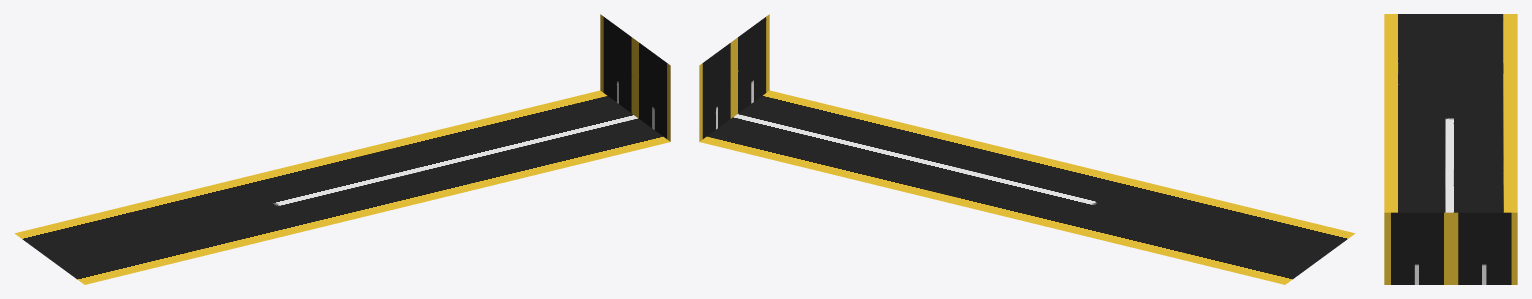
Rendered from Road.fbx.
The picture shows the model from 3 angles, left to right: view 1: azimuth 30°, elevation 25°; view 2: azimuth 150°, elevation 25°; view 3: azimuth 270°, elevation 25°; orthographic projection. The views are drawn at different scales.
Parts seen in each view (by area): view 1: Plane.009; view 2: Plane.009; view 3: Plane.009.
Part boxes in pixels (x1=…): Plane.009: x1=14, y1=14, x2=670, y2=284; Plane.009: x1=699, y1=14, x2=1355, y2=284; Plane.009: x1=1384, y1=14, x2=1517, y2=284.
Bounding box in the file's own units: 1763 × 220 × 368.
